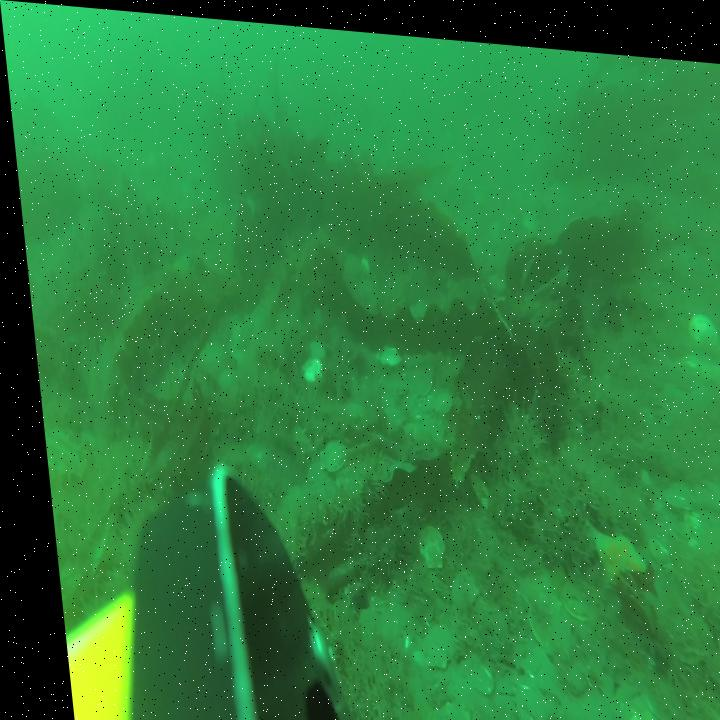holothurian: (676, 292, 717, 342), (278, 409, 310, 459)
scallop: (511, 580, 561, 644), (548, 561, 597, 617), (403, 613, 447, 666), (406, 688, 460, 720), (652, 461, 689, 507), (403, 515, 437, 564), (686, 461, 720, 504), (436, 561, 469, 604), (308, 432, 340, 471), (220, 311, 247, 349), (399, 359, 430, 392), (455, 653, 483, 689), (292, 349, 319, 385), (370, 338, 398, 364), (374, 396, 399, 423), (301, 333, 319, 359)
starfish: (573, 506, 642, 589)
